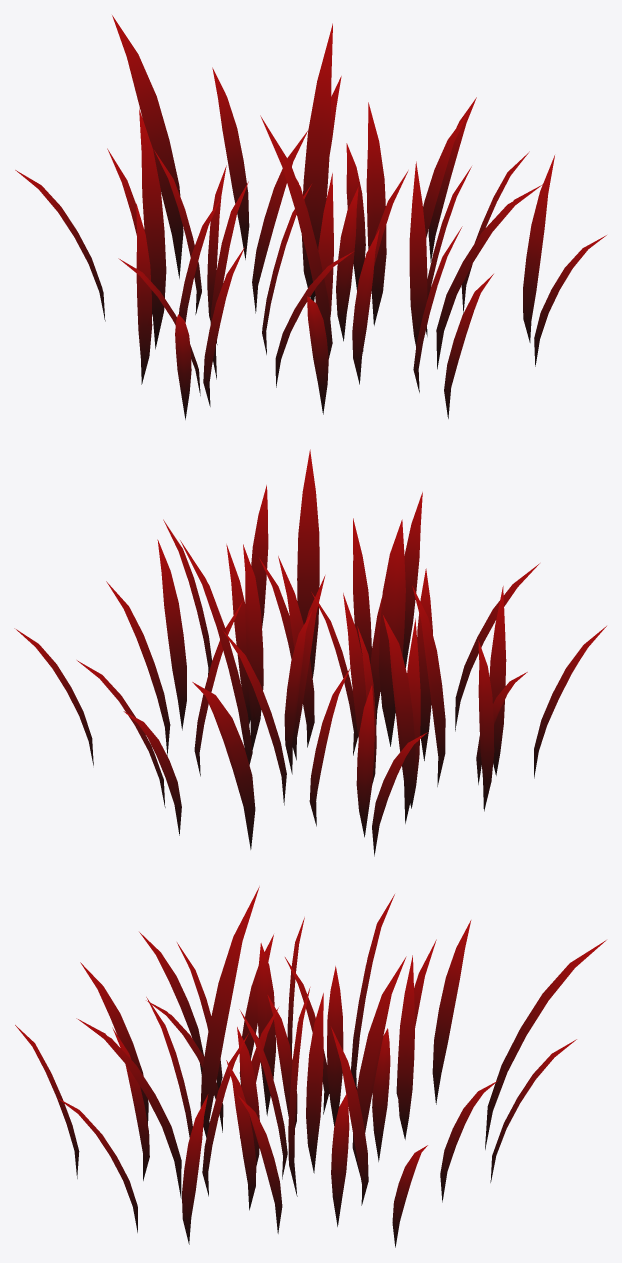
The model's file is Grass5.fbx.
The picture shows the model from 3 angles, top to bottom: view 1: azimuth 30°, elevation 25°; view 2: azimuth 150°, elevation 25°; view 3: azimuth 270°, elevation 25°; orthographic projection. The views are drawn at different scales.
Visible parts, largest first — view 1: Grass; view 2: Grass; view 3: Grass.
Part boxes in pixels (left/top/right/bottom): Grass: left=15, top=15, right=606, bottom=419; Grass: left=14, top=449, right=606, bottom=856; Grass: left=15, top=886, right=606, bottom=1247.
Size of the model in its own units: 3.15 by 1.73 by 3.74.
